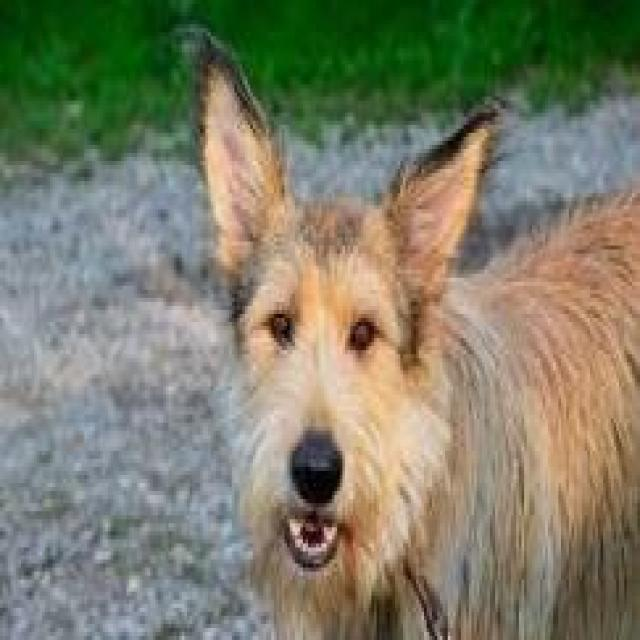Perro: (166, 16, 640, 636)
